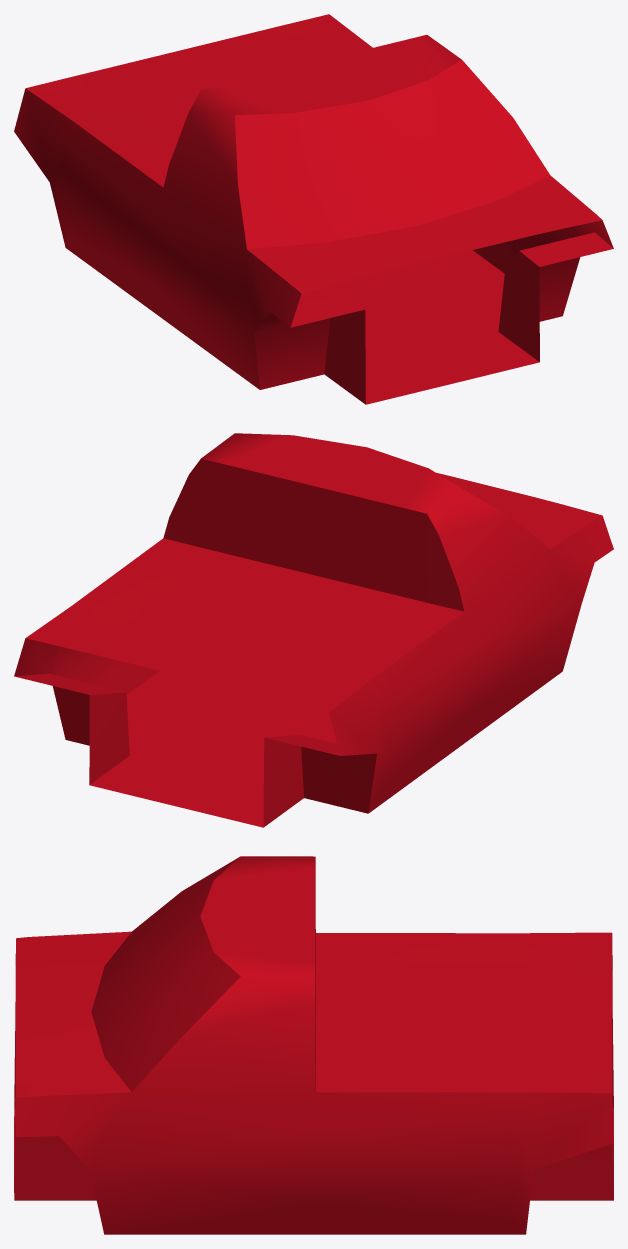
The model's file is template_car_pickup_middle.dae.
The picture shows the model from 3 angles, top to bottom: view 1: azimuth 30°, elevation 25°; view 2: azimuth 150°, elevation 25°; view 3: azimuth 270°, elevation 25°; orthographic projection. The views are drawn at different scales.
Parts seen in each view (by area): view 1: template_car_pickup_middle; view 2: template_car_pickup_middle; view 3: template_car_pickup_middle.
Part boxes in pixels (<box>): template_car_pickup_middle: <box>14,14,613,404</box>; template_car_pickup_middle: <box>14,433,613,827</box>; template_car_pickup_middle: <box>14,856,613,1234</box>.
Size of the model in its own units: 1.72 by 2.51 by 1.1.
